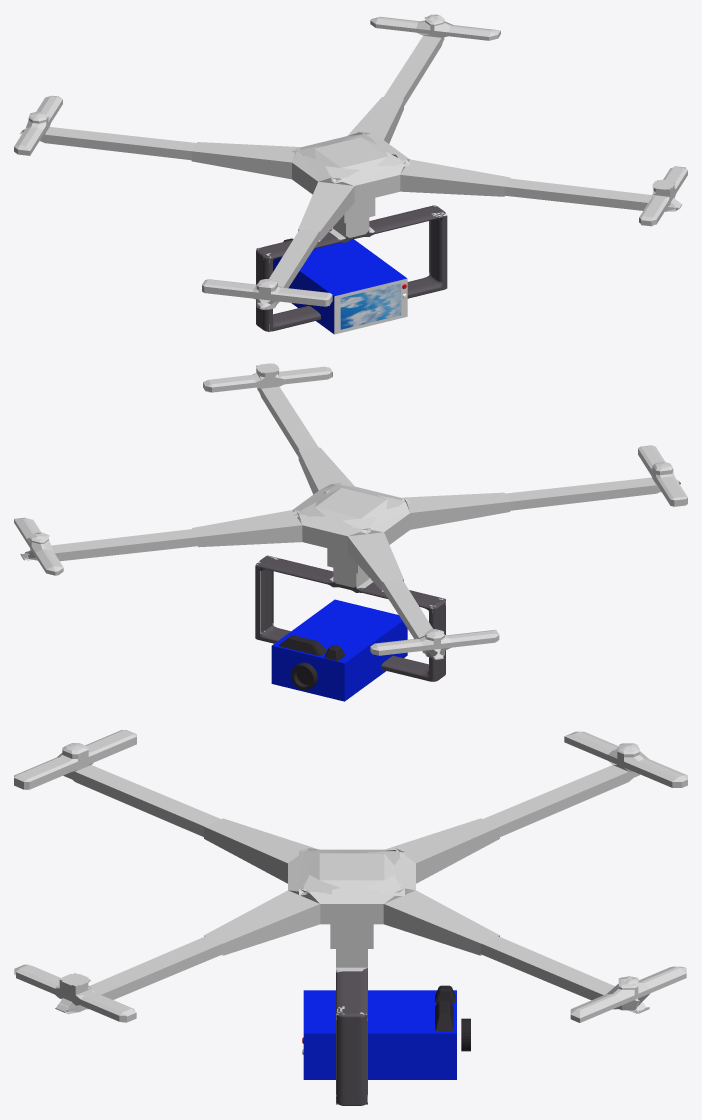
File: Dron azul final.fbx
3 renders of one model, top to bottom at view 1: azimuth 30°, elevation 25°; view 2: azimuth 150°, elevation 25°; view 3: azimuth 270°, elevation 25°, orthographic. The views are drawn at different scales.
Visible parts, largest first — view 1: Cube.001, Cube.004; view 2: Cube.001, Cube.004; view 3: Cube.001, Cube.004.
Part boxes in pixels (left/top/right/bottom): Cube.001: left=14, top=14, right=687, bottom=331; Cube.004: left=273, top=238, right=407, bottom=334; Cube.001: left=14, top=363, right=687, bottom=681; Cube.004: left=271, top=599, right=407, bottom=701; Cube.001: left=14, top=730, right=687, bottom=1105; Cube.004: left=302, top=985, right=470, bottom=1079.
Bounding box in the file's own units: 2659 × 846 × 2640.
Materials: 8 (1 with a texture image).
